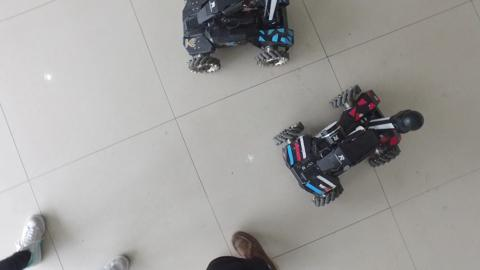chariot: (271, 79, 429, 215), (176, 1, 298, 78)
